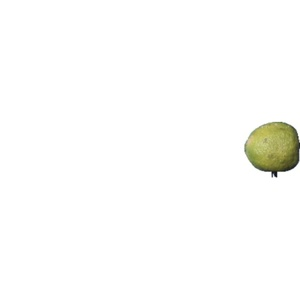limão: (245, 122, 300, 177)
